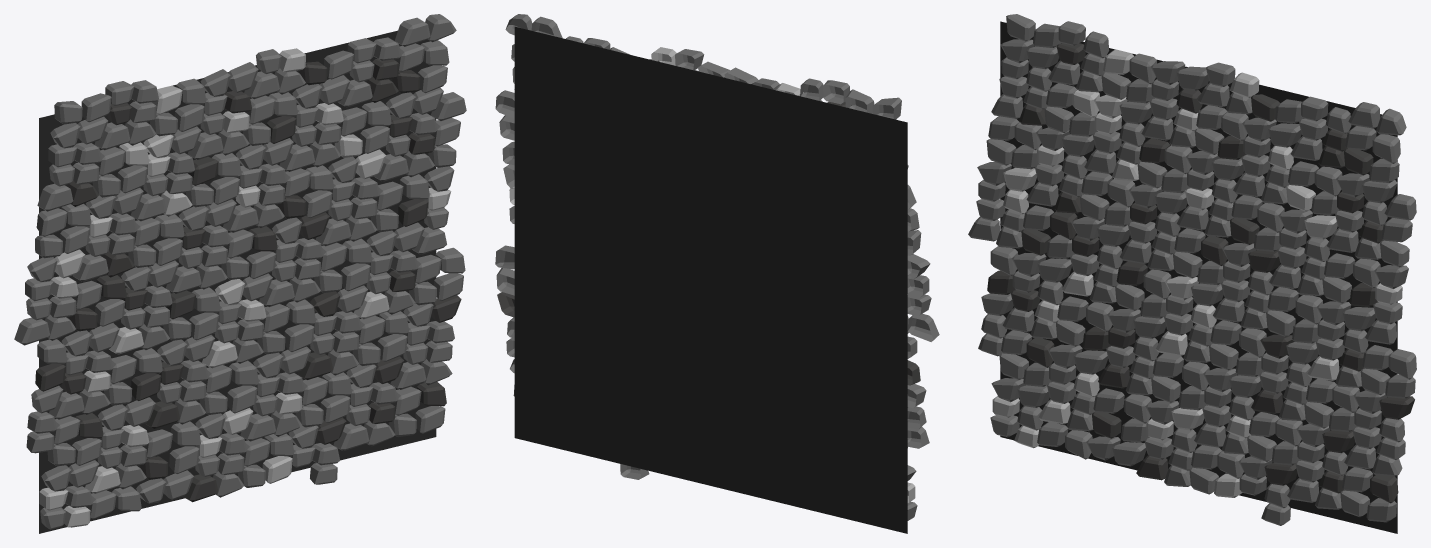
File: parede de petra.fbx
The picture shows the model from 3 angles, left to right: view 1: azimuth 30°, elevation 25°; view 2: azimuth 150°, elevation 25°; view 3: azimuth 330°, elevation 25°; orthographic projection.
Parts seen in each view (by area): view 1: Cube; view 2: Cube; view 3: Cube.
Part boxes in pixels (<box>): Cube: <box>14,14,466,533</box>; Cube: <box>495,14,939,533</box>; Cube: <box>968,14,1416,533</box>.
Size of the model in its own units: 4136 by 3960 by 141.
